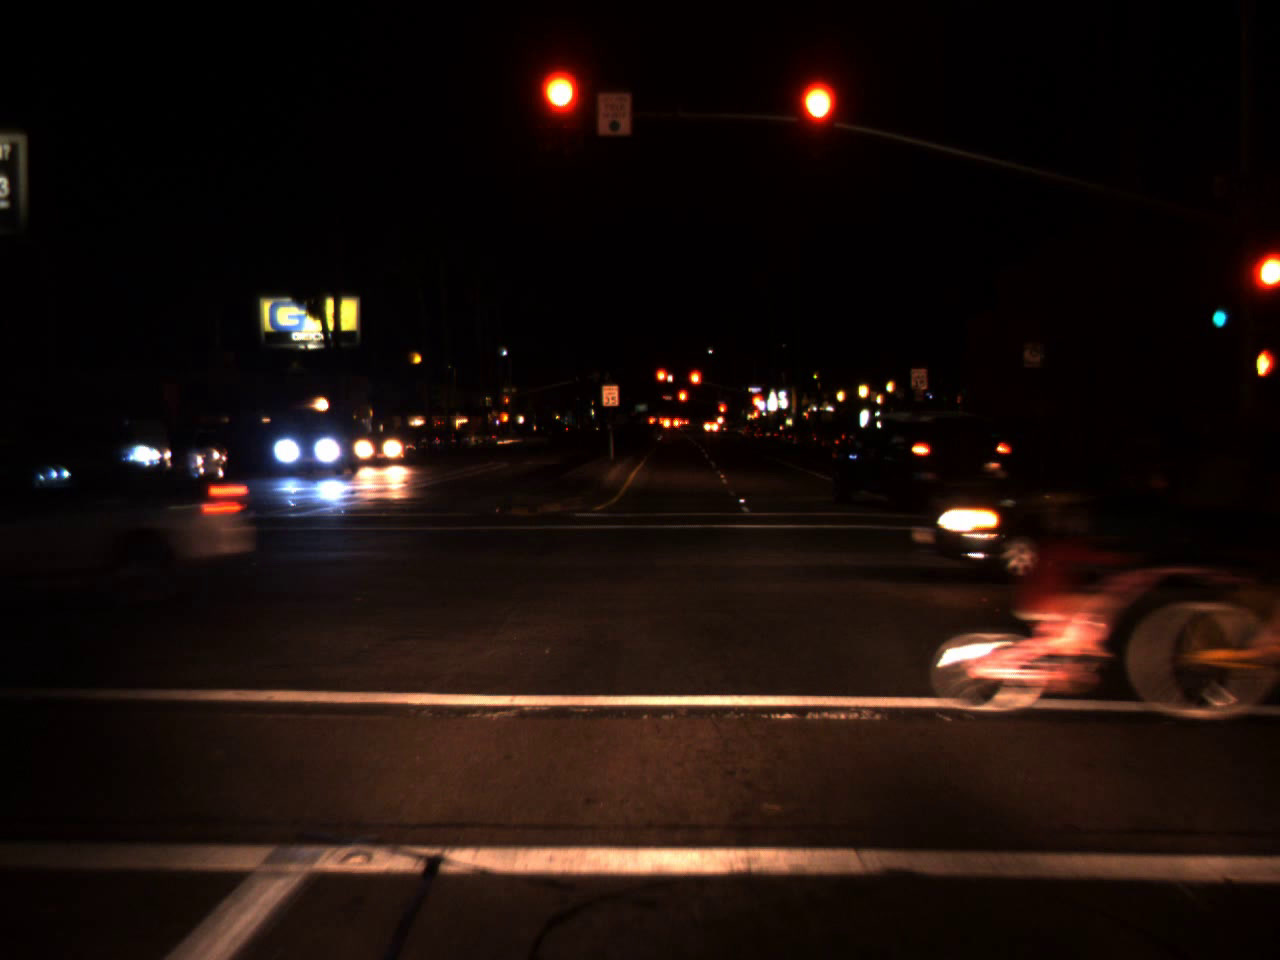stop: (542, 72, 581, 150), (800, 83, 836, 161), (1257, 258, 1280, 312), (688, 369, 703, 401), (654, 367, 670, 394), (748, 392, 764, 416), (677, 387, 689, 414), (717, 402, 727, 419)
